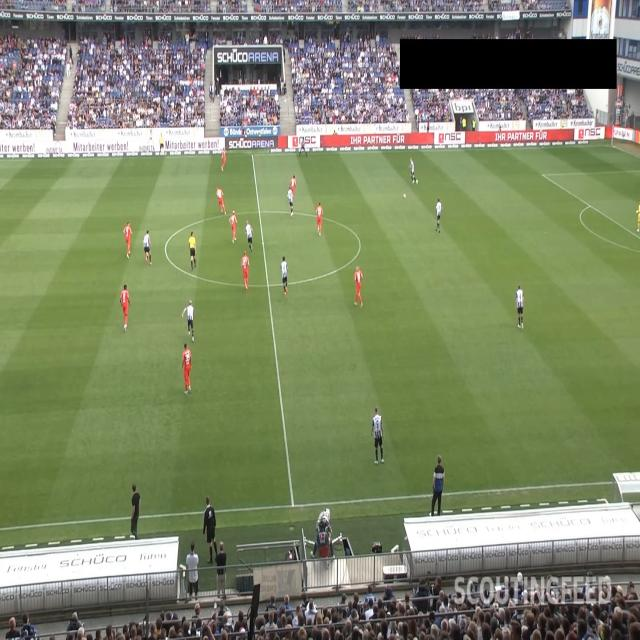ball: (403, 193, 406, 199)
